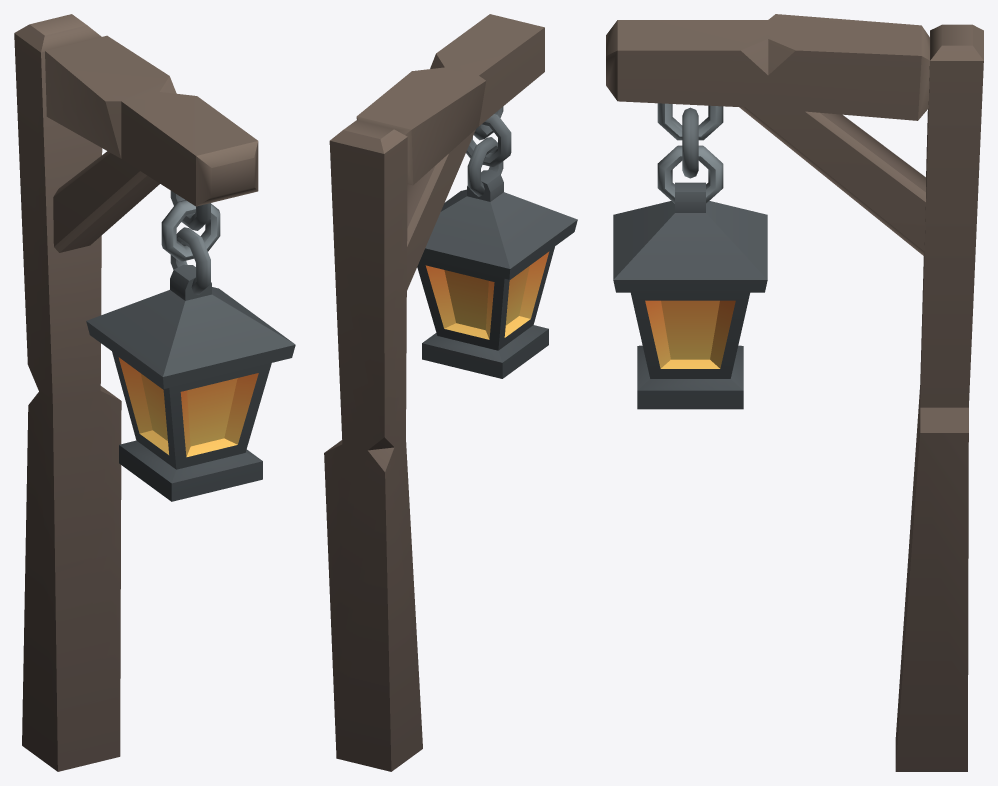
File: landmark-lantern-shrine.glb
The picture shows the model from 3 angles, left to right: view 1: azimuth 30°, elevation 25°; view 2: azimuth 150°, elevation 25°; view 3: azimuth 270°, elevation 25°; orthographic projection. The views are drawn at different scales.
Visible parts, largest first — view 1: post_lantern; view 2: post_lantern; view 3: post_lantern.
Boxes of the visible parts, left/top/right/bottom form: post_lantern: left=14, top=14, right=295, bottom=771; post_lantern: left=324, top=14, right=577, bottom=771; post_lantern: left=606, top=14, right=983, bottom=771.
Bounding box in the file's own units: 0.6399 × 3.3 × 1.57.
1 material, 1 textured.
